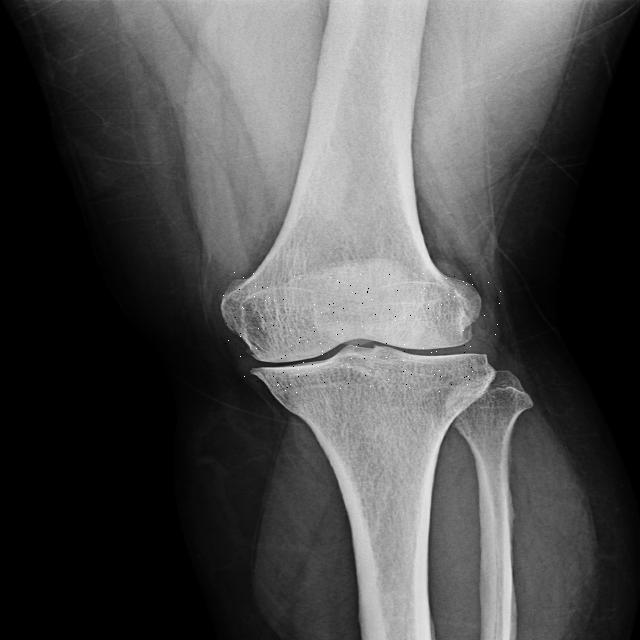osteo: (221, 272, 502, 393)
